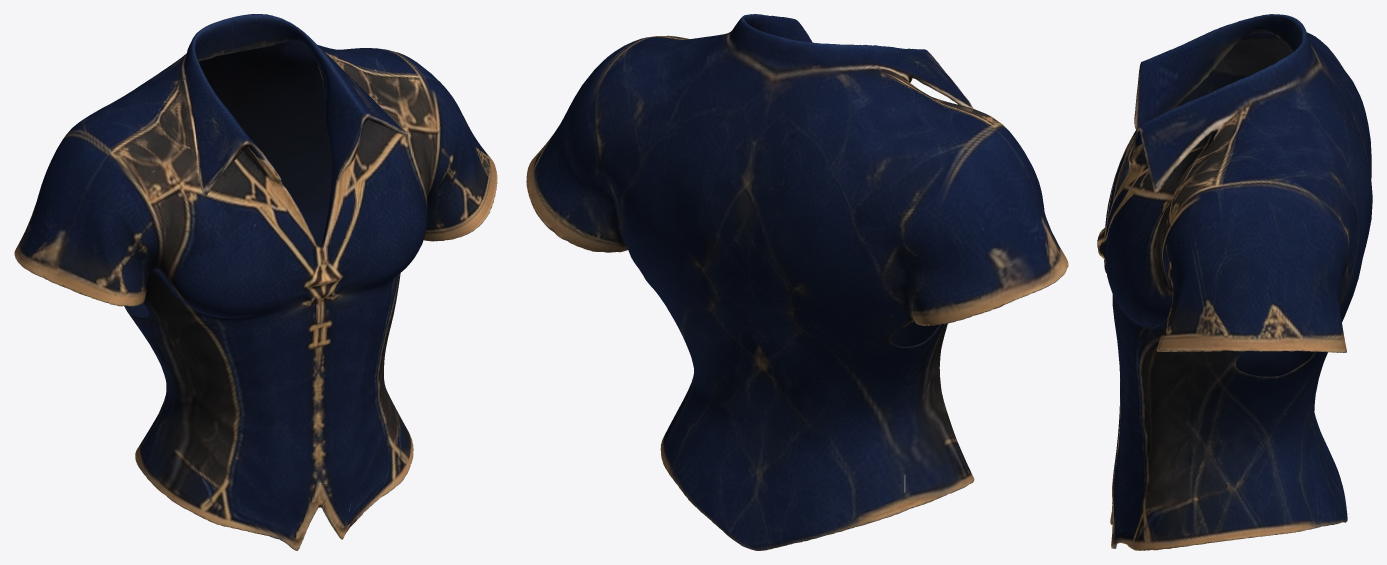
File: navy_shirt.glb
The picture shows the model from 3 angles, left to right: view 1: azimuth 30°, elevation 25°; view 2: azimuth 150°, elevation 25°; view 3: azimuth 270°, elevation 25°; orthographic projection. The views are drawn at different scales.
Parts seen in each view (by area): view 1: Meshy_AI_Royal_Arcane_Vestment_20261026_texture.001; view 2: Meshy_AI_Royal_Arcane_Vestment_20261026_texture.001; view 3: Meshy_AI_Royal_Arcane_Vestment_20261026_texture.001.
Part boxes in pixels (x1,y1,x2,y2): Meshy_AI_Royal_Arcane_Vestment_20261026_texture.001: [14, 14, 497, 550]; Meshy_AI_Royal_Arcane_Vestment_20261026_texture.001: [526, 14, 1068, 550]; Meshy_AI_Royal_Arcane_Vestment_20261026_texture.001: [1097, 14, 1372, 550].
Size of the model in its own units: 0.756 by 0.7234 by 0.3605.
1 material, 1 textured.
